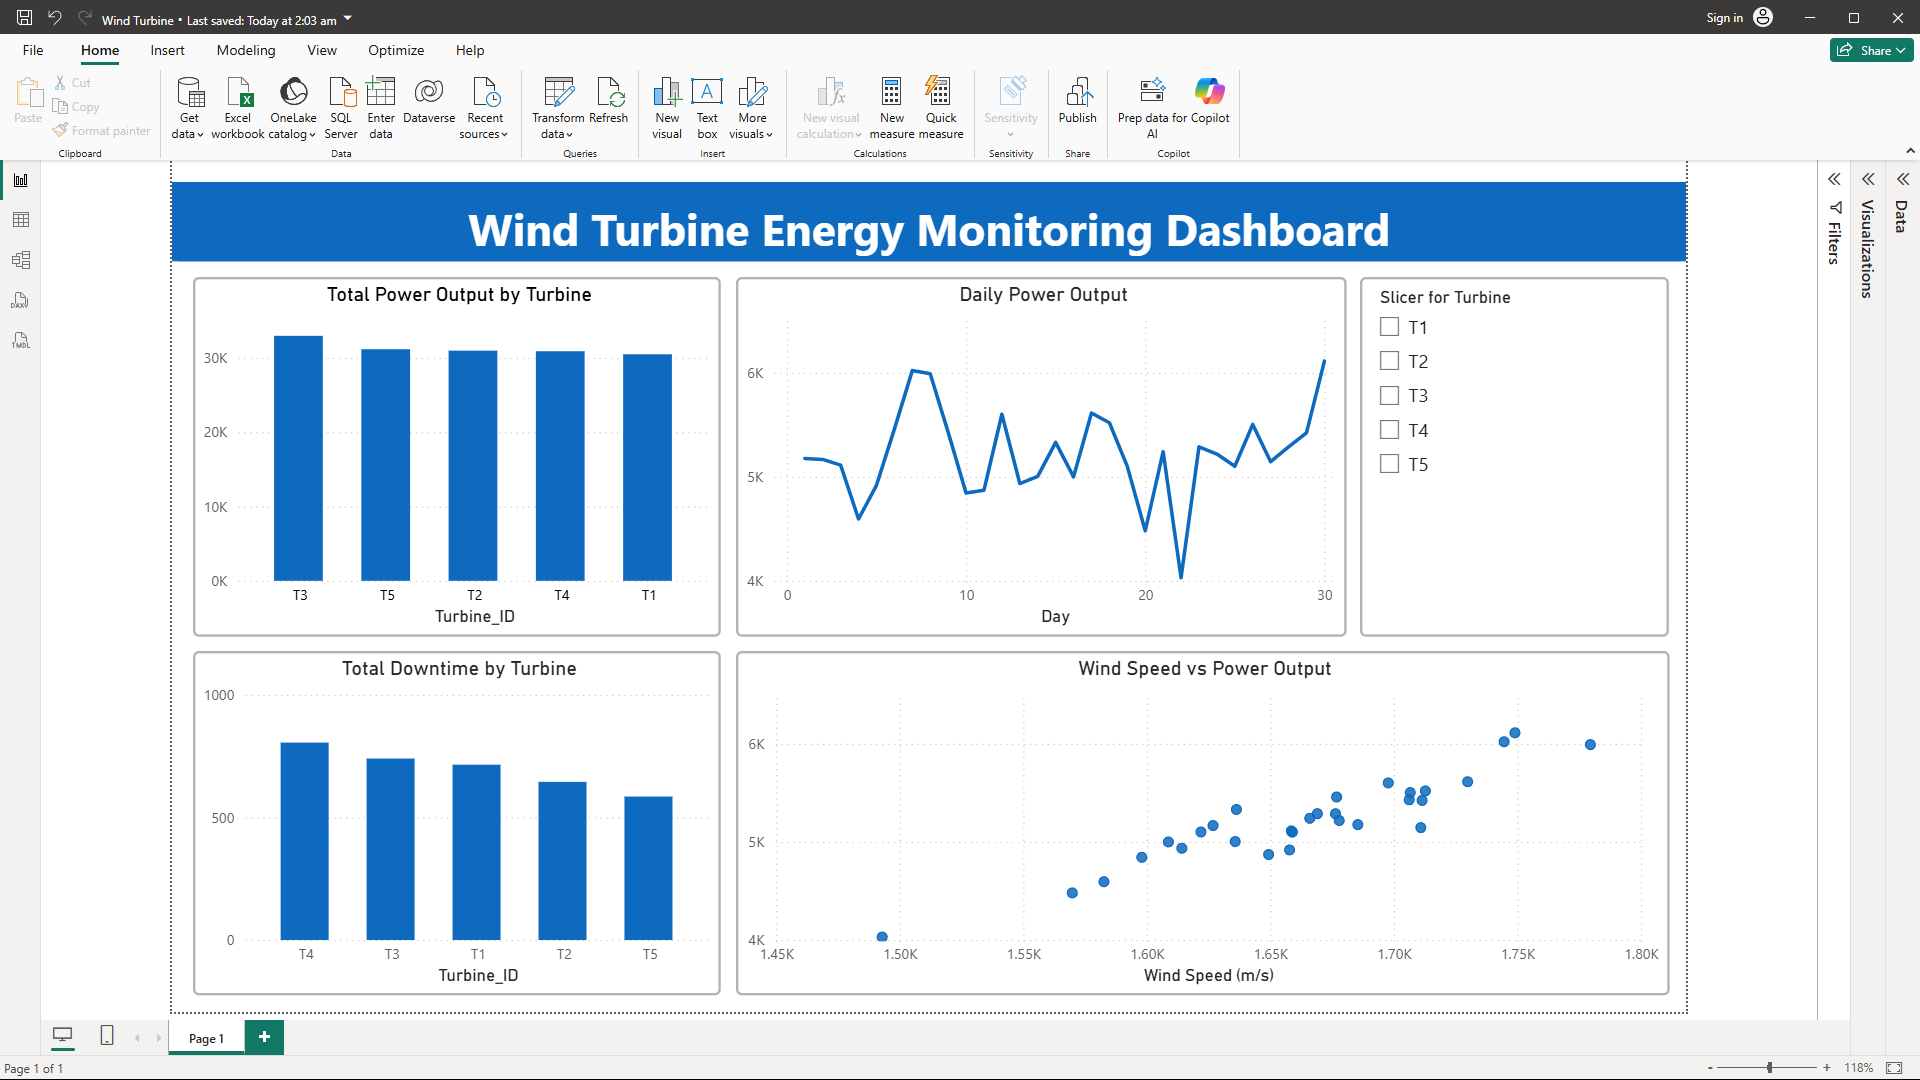

The page's visual inventory and layout, read from the dashboard file:
{"tool":"powerbi","page":{"name":"Page 1","canvas":[1280,720],"ordinal":0},"visuals":[{"type":"columnChart","title":"Total Power Output by Turbine","fields":{"Category":["cleaned_wind_turbine_data.Turbine_ID"],"Y":["Sum(cleaned_wind_turbine_data.Power_Output)"]},"box":[17.5,98.8,446.2,303.8],"z":0},{"type":"lineChart","title":"Daily Power Output","fields":{"Category":["cleaned_wind_turbine_data.Date.Variation.Date Hierarchy.Day"],"Y":["Sum(cleaned_wind_turbine_data.Power_Output)"]},"box":[476.2,98.8,516.2,303.8],"z":1000},{"type":"columnChart","title":"Total Downtime by Turbine","fields":{"Category":["cleaned_wind_turbine_data.Turbine_ID"],"Y":["Sum(cleaned_wind_turbine_data.Downtime)"]},"box":[17.5,415,446.2,291.2],"z":2000},{"type":"textbox","title":"Wind Turbine Energy Monitoring Dashboard","box":[0,18.5,1280,67.1],"z":3000},{"type":"scatterChart","title":"Wind Speed vs Power Output","fields":{"X":["Sum(cleaned_wind_turbine_data.Wind_Speed)"],"Y":["Sum(cleaned_wind_turbine_data.Power_Output)"],"Category":["cleaned_wind_turbine_data.Date.Variation.Date Hierarchy.Day"]},"box":[476.2,415,788.8,291.2],"z":4000},{"type":"slicer","fields":{"Values":["cleaned_wind_turbine_data.Turbine_ID"]},"box":[1003.8,98.8,261.2,303.8],"z":5000}]}

Visuals, with their boxes on the page's 1280x720 design canvas (x1, y1, x2, y2). These are canvas units, not pixel positions in the 1920x1080 screenshot, which may show the page scaled, cropped or inside an application window:
"Total Power Output by Turbine" columnChart: Rect(18, 99, 464, 403)
"Daily Power Output" lineChart: Rect(476, 99, 992, 403)
"Total Downtime by Turbine" columnChart: Rect(18, 415, 464, 706)
"Wind Turbine Energy Monitoring Dashboard" textbox: Rect(0, 18, 1280, 86)
"Wind Speed vs Power Output" scatterChart: Rect(476, 415, 1265, 706)
slicer - cleaned_wind_turbine_data.Turbine_ID: Rect(1004, 99, 1265, 403)
